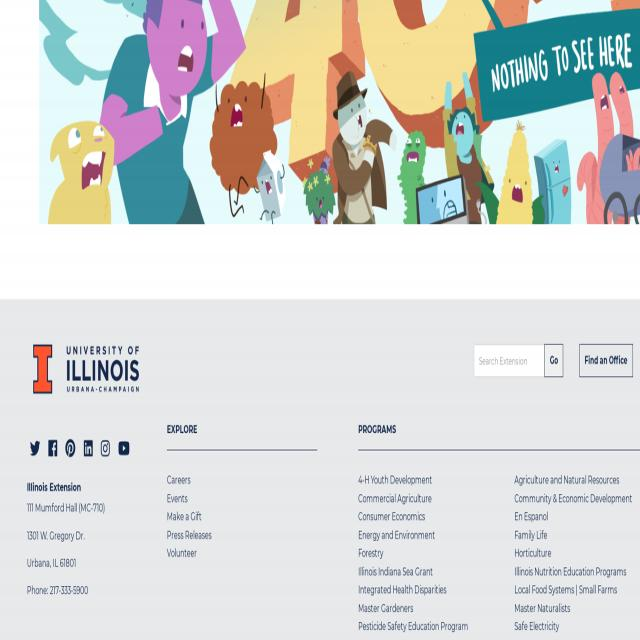button: (33, 344, 139, 393), (580, 344, 633, 377), (545, 344, 563, 377), (118, 437, 130, 460), (48, 437, 58, 460), (66, 437, 76, 460), (100, 437, 110, 460), (30, 437, 40, 460), (84, 437, 93, 460)
field: (474, 344, 544, 377)
